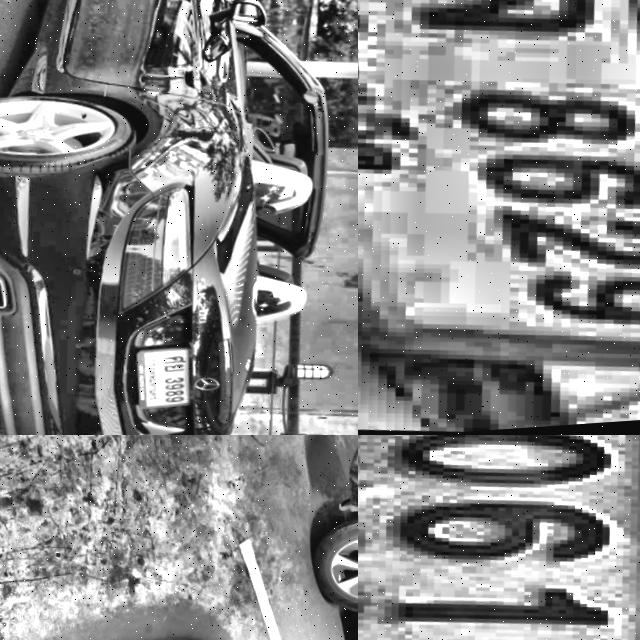license-plate: (358, 0, 640, 419), (358, 435, 640, 640), (118, 343, 198, 425)
